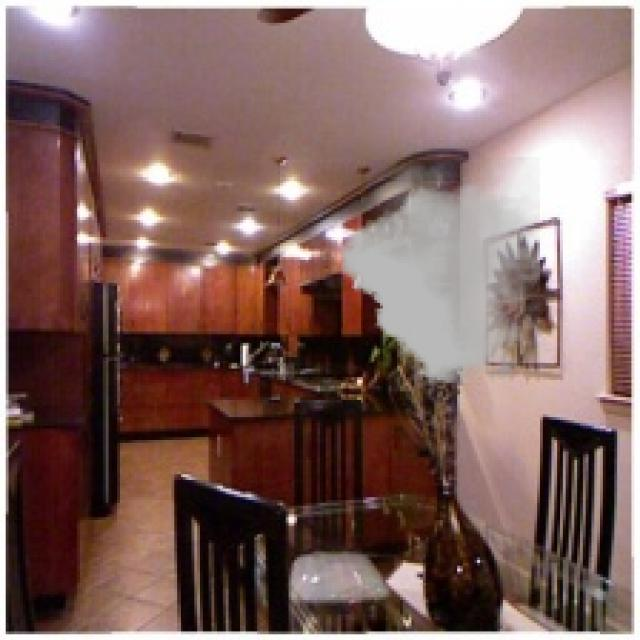smoke: (340, 157, 540, 389)
